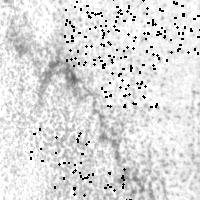pitted_surface: (72, 4, 177, 196), (65, 6, 124, 65), (30, 128, 88, 187), (98, 50, 156, 106), (89, 0, 148, 47), (64, 0, 119, 41), (147, 17, 200, 59), (72, 164, 131, 200), (147, 0, 200, 32)
